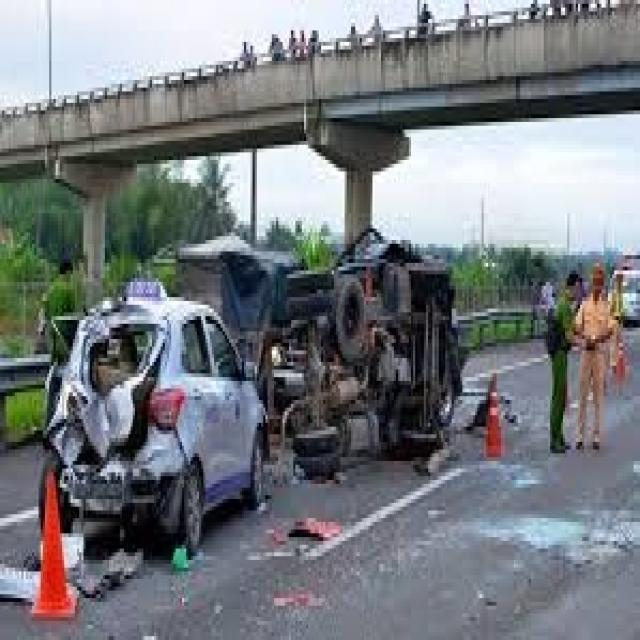accident: (38, 260, 475, 545)
